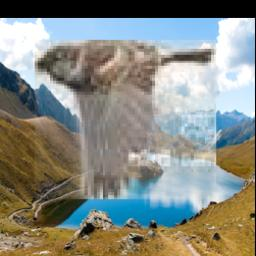Sparrow: (35, 40, 216, 199)
